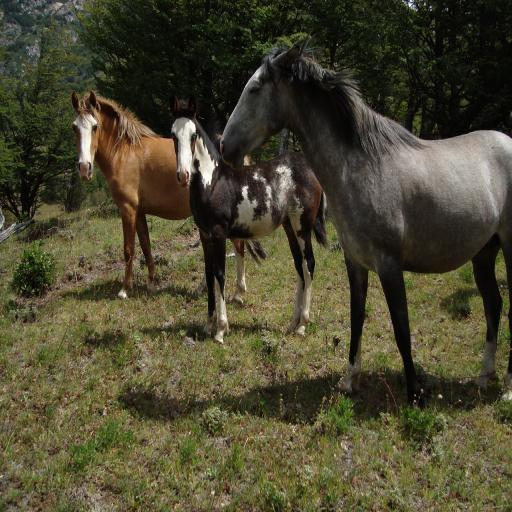horse: (217, 38, 512, 416), (71, 86, 267, 308), (169, 94, 331, 346)
